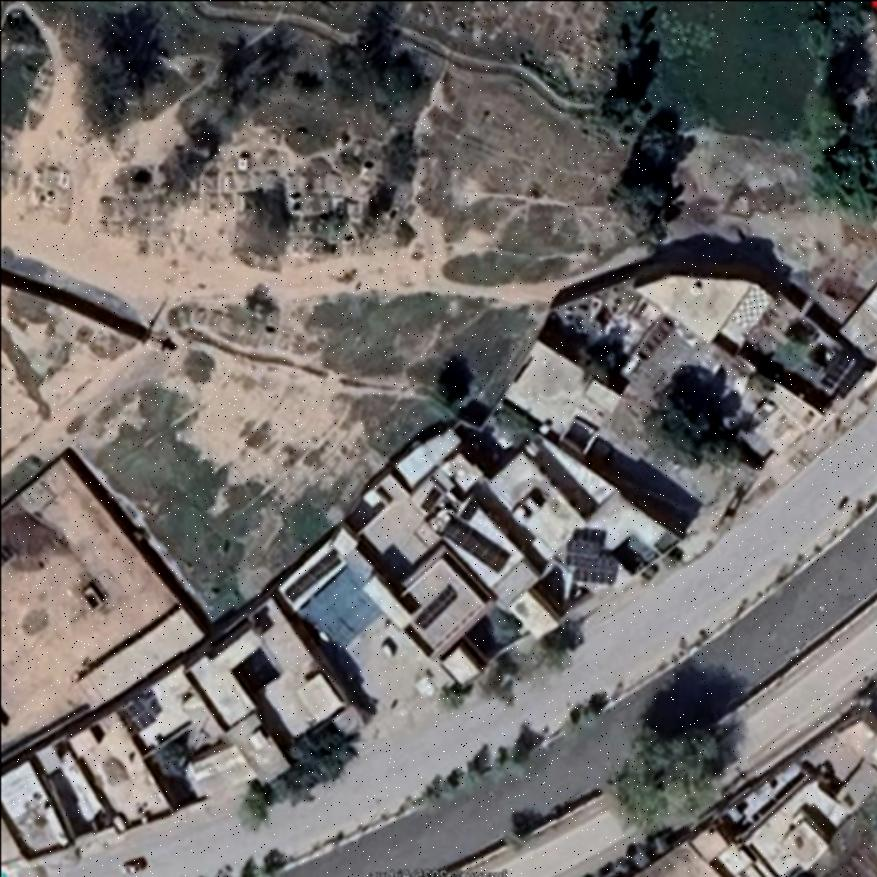Solarpanel: (442, 517, 506, 569), (283, 551, 342, 599), (412, 587, 454, 628), (124, 700, 155, 729), (566, 540, 601, 564)
